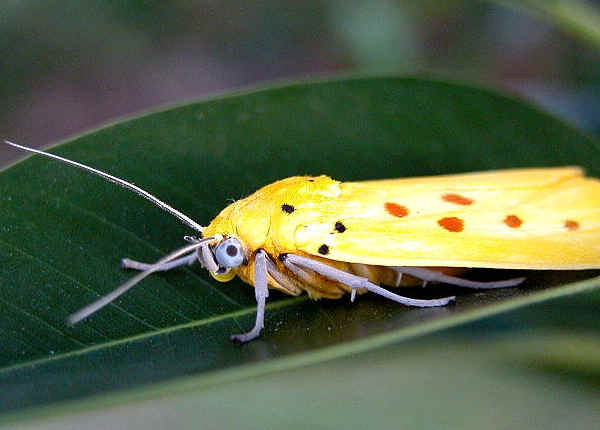Agape chloropyga: (1, 134, 598, 347)
moth: (3, 136, 600, 349)
